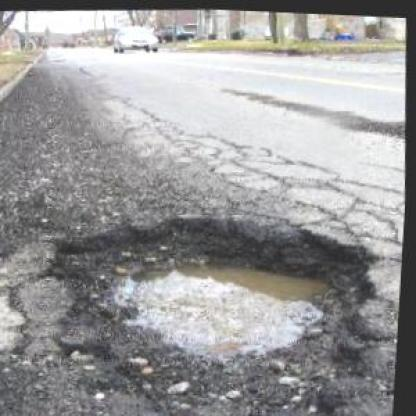pothole: (41, 195, 400, 414)
